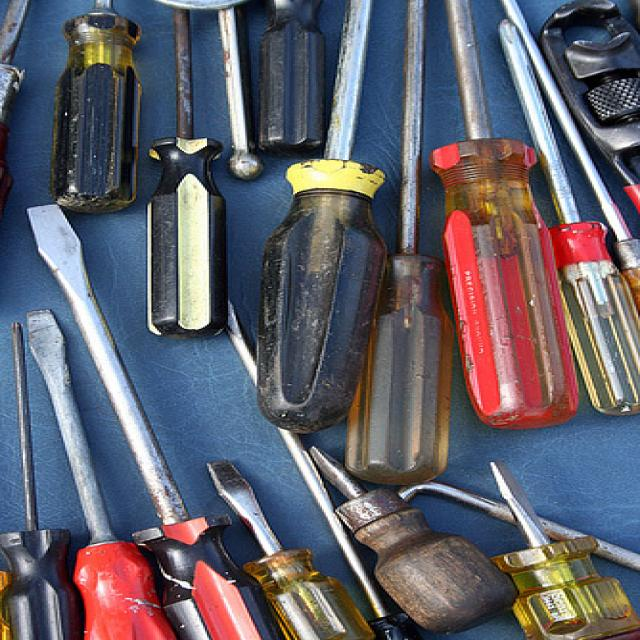screw driver: (12, 184, 348, 640)
